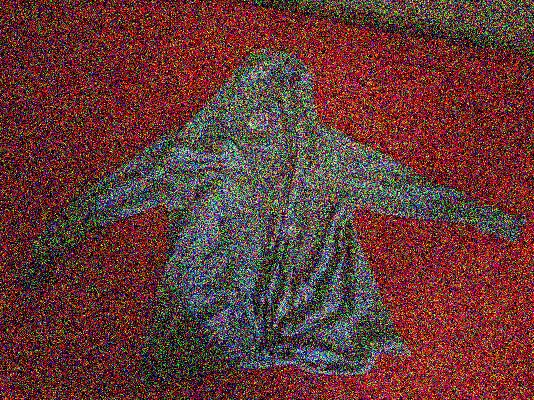Hoodie: (0, 60, 526, 382)
